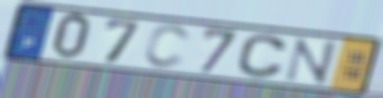0: (49, 12, 95, 63)
7: (101, 17, 146, 66), (200, 25, 241, 75)
C: (234, 33, 290, 80), (141, 23, 193, 71)
N: (281, 36, 340, 87)
